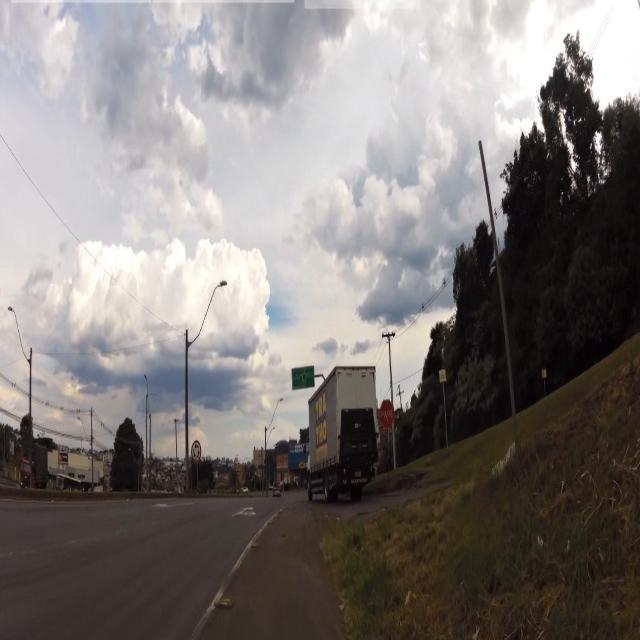R-1: (381, 397, 396, 433)
